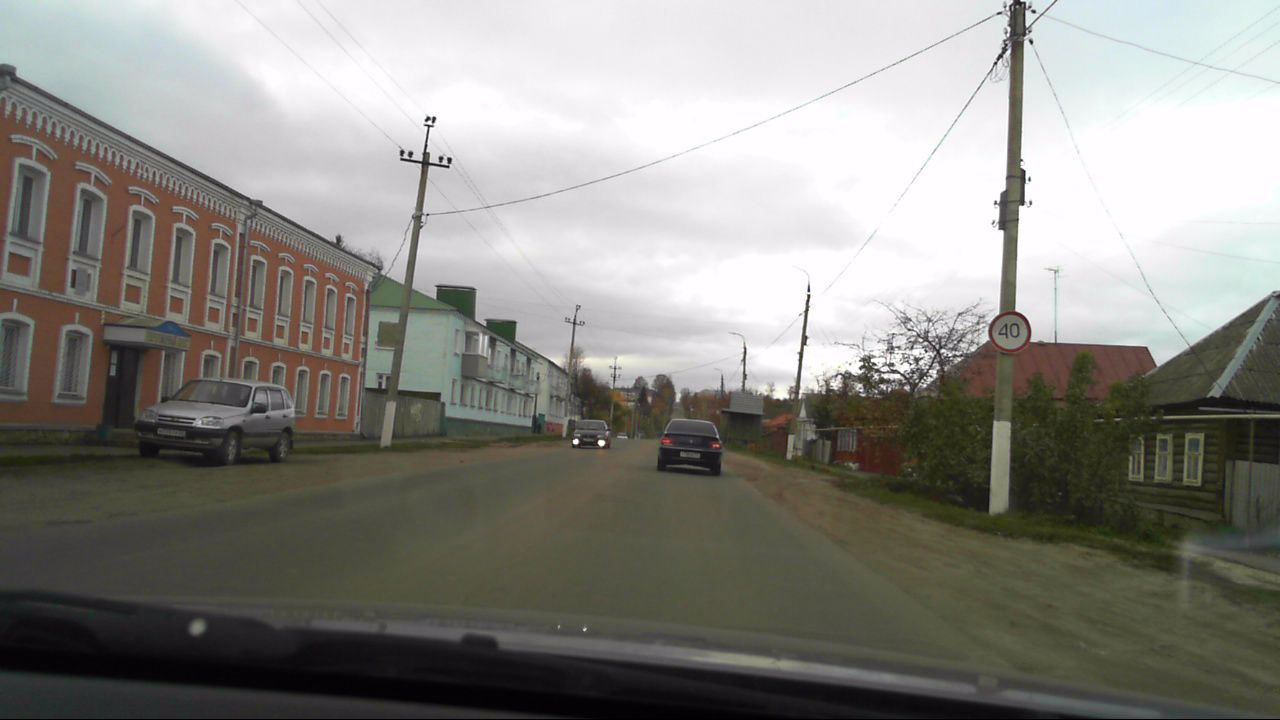speed_warning_40: (986, 311, 1032, 354)
